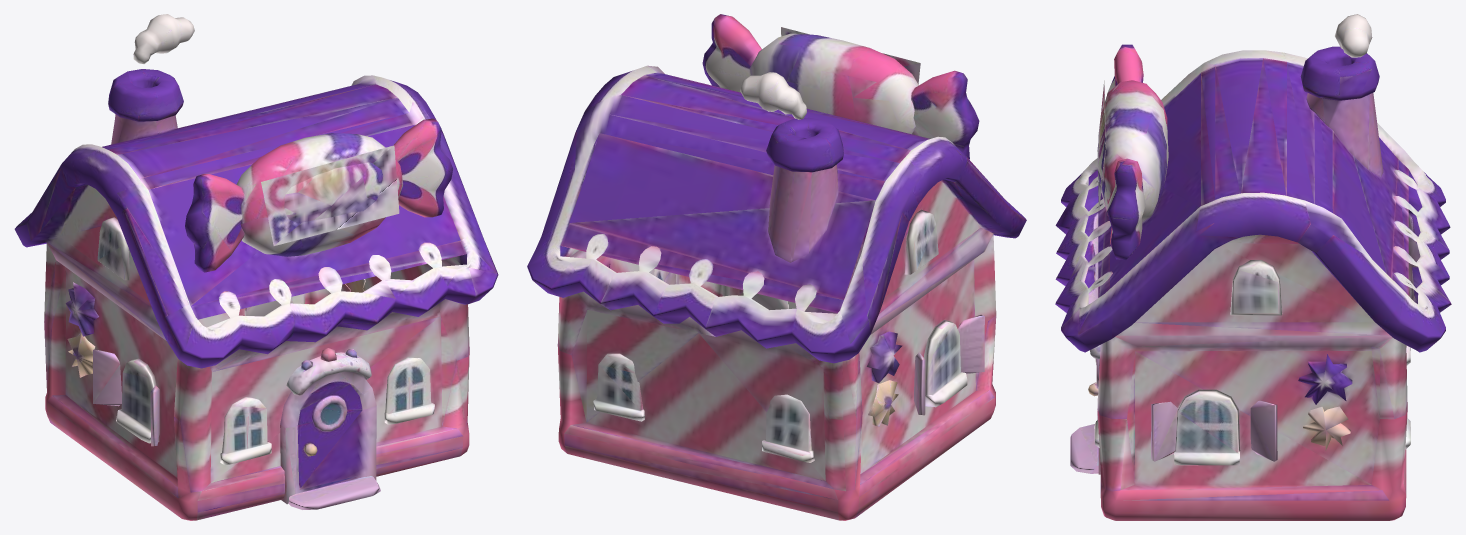
Rendered from taffy.glb.
The picture shows the model from 3 angles, left to right: view 1: azimuth 30°, elevation 25°; view 2: azimuth 150°, elevation 25°; view 3: azimuth 270°, elevation 25°; orthographic projection. The views are drawn at different scales.
Bounding box in the file's own units: 0.7994 × 0.9517 × 0.8257.
Materials: 1 (1 with a texture image).
